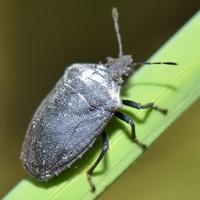insect: (21, 55, 131, 179)
